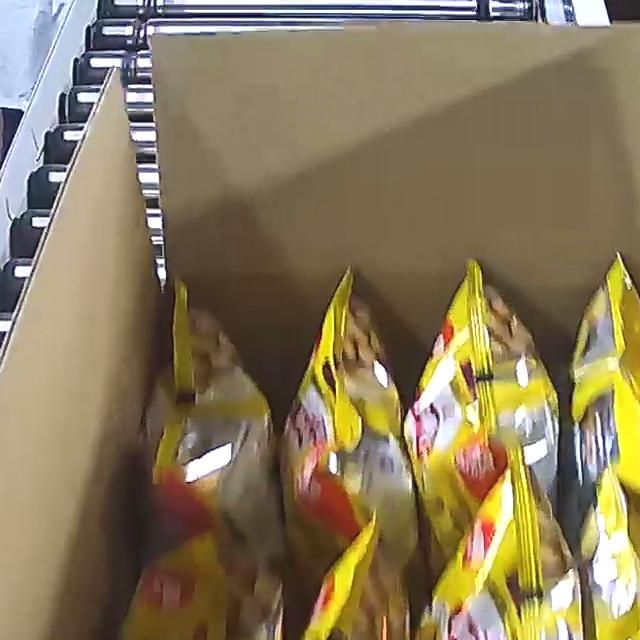salted: (69, 250, 640, 640)
